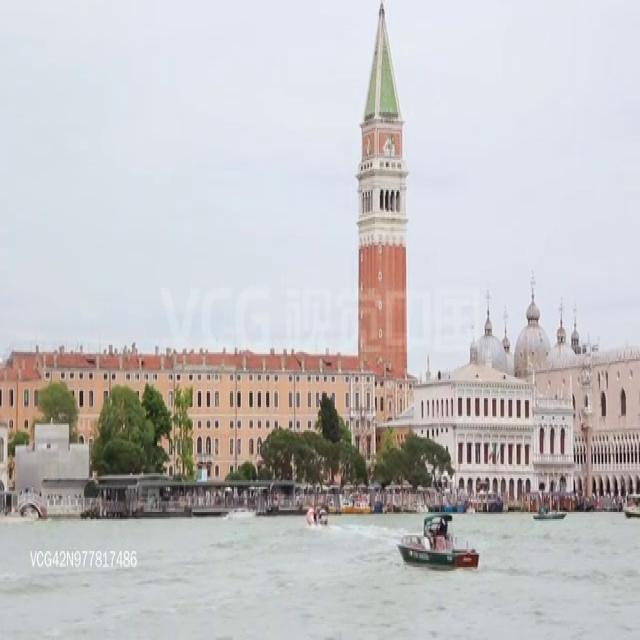houseboat: (396, 508, 479, 568), (306, 494, 330, 529), (533, 506, 570, 523), (622, 491, 640, 521)
